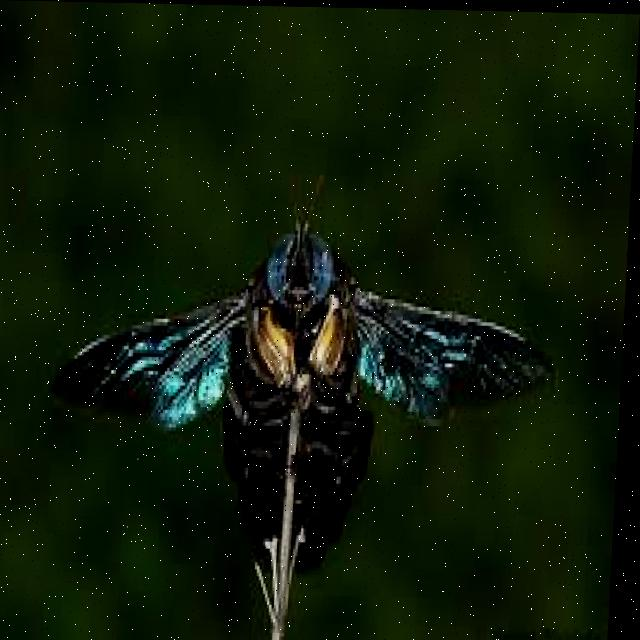Xylocopa: (42, 179, 563, 598)
